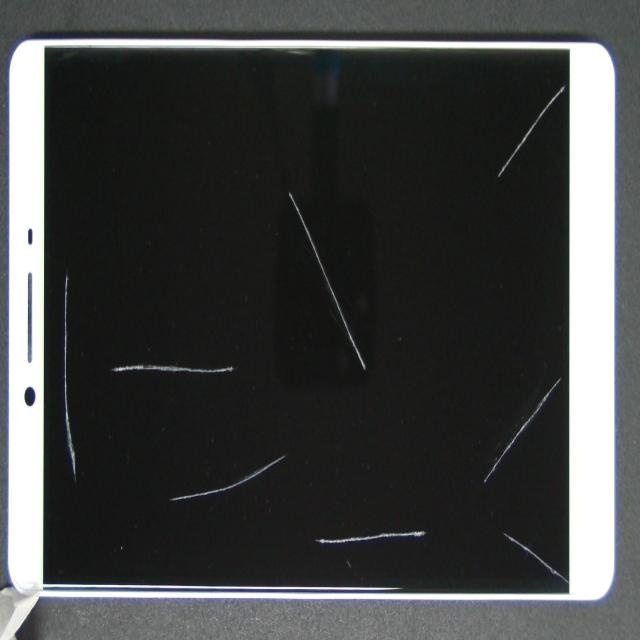scratch: (210, 261, 640, 640), (282, 264, 589, 640), (323, 0, 640, 141), (189, 189, 293, 530)
